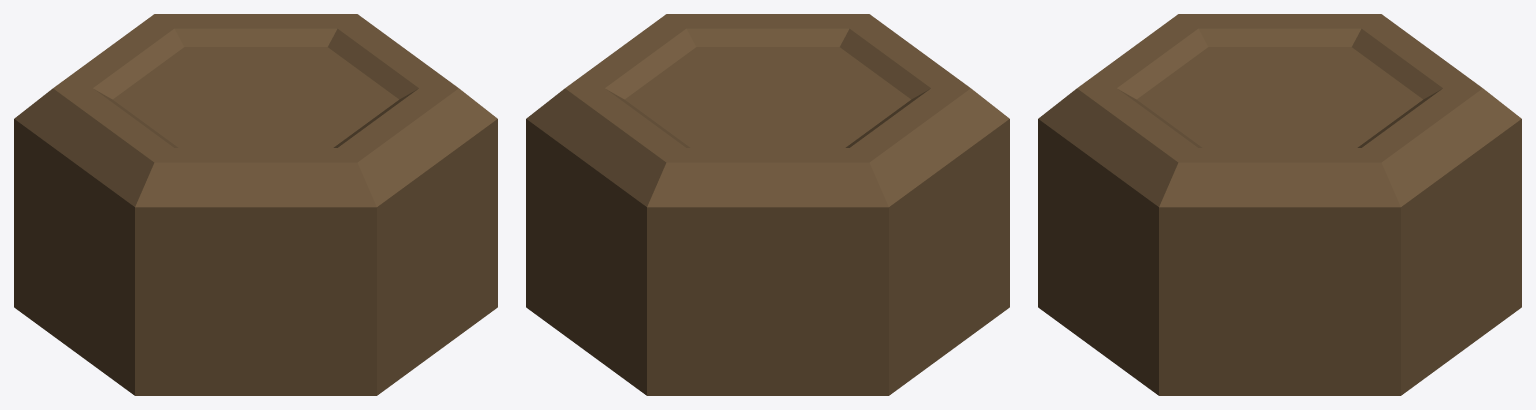
File: HexTile1.fbx
3 renders of one model, left to right at view 1: azimuth 30°, elevation 25°; view 2: azimuth 150°, elevation 25°; view 3: azimuth 270°, elevation 25°, orthographic.
Visible parts, largest first — view 1: Tile; view 2: Tile; view 3: Tile.
Part boxes in pixels (x1,y1,x2,y2): Tile: [14, 14, 497, 395]; Tile: [526, 14, 1009, 395]; Tile: [1038, 14, 1521, 395].
Size of the model in its own units: 1.79 by 1.03 by 2.07.
